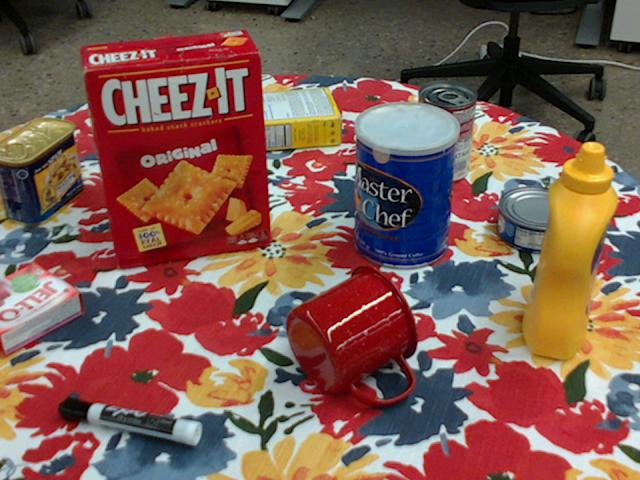cracker_box: (79, 30, 268, 265)
gelatin_box: (0, 263, 84, 357)
large_marker: (58, 395, 201, 445)
master_chef_can: (354, 102, 459, 270)
mug: (286, 264, 421, 405)
mustard_bottle: (521, 143, 616, 360)
potted_meat_can: (0, 116, 80, 225)
sugar_box: (193, 88, 339, 156)
tomato_soup_can: (414, 81, 476, 184)
tuna_fish_can: (496, 188, 580, 255)
